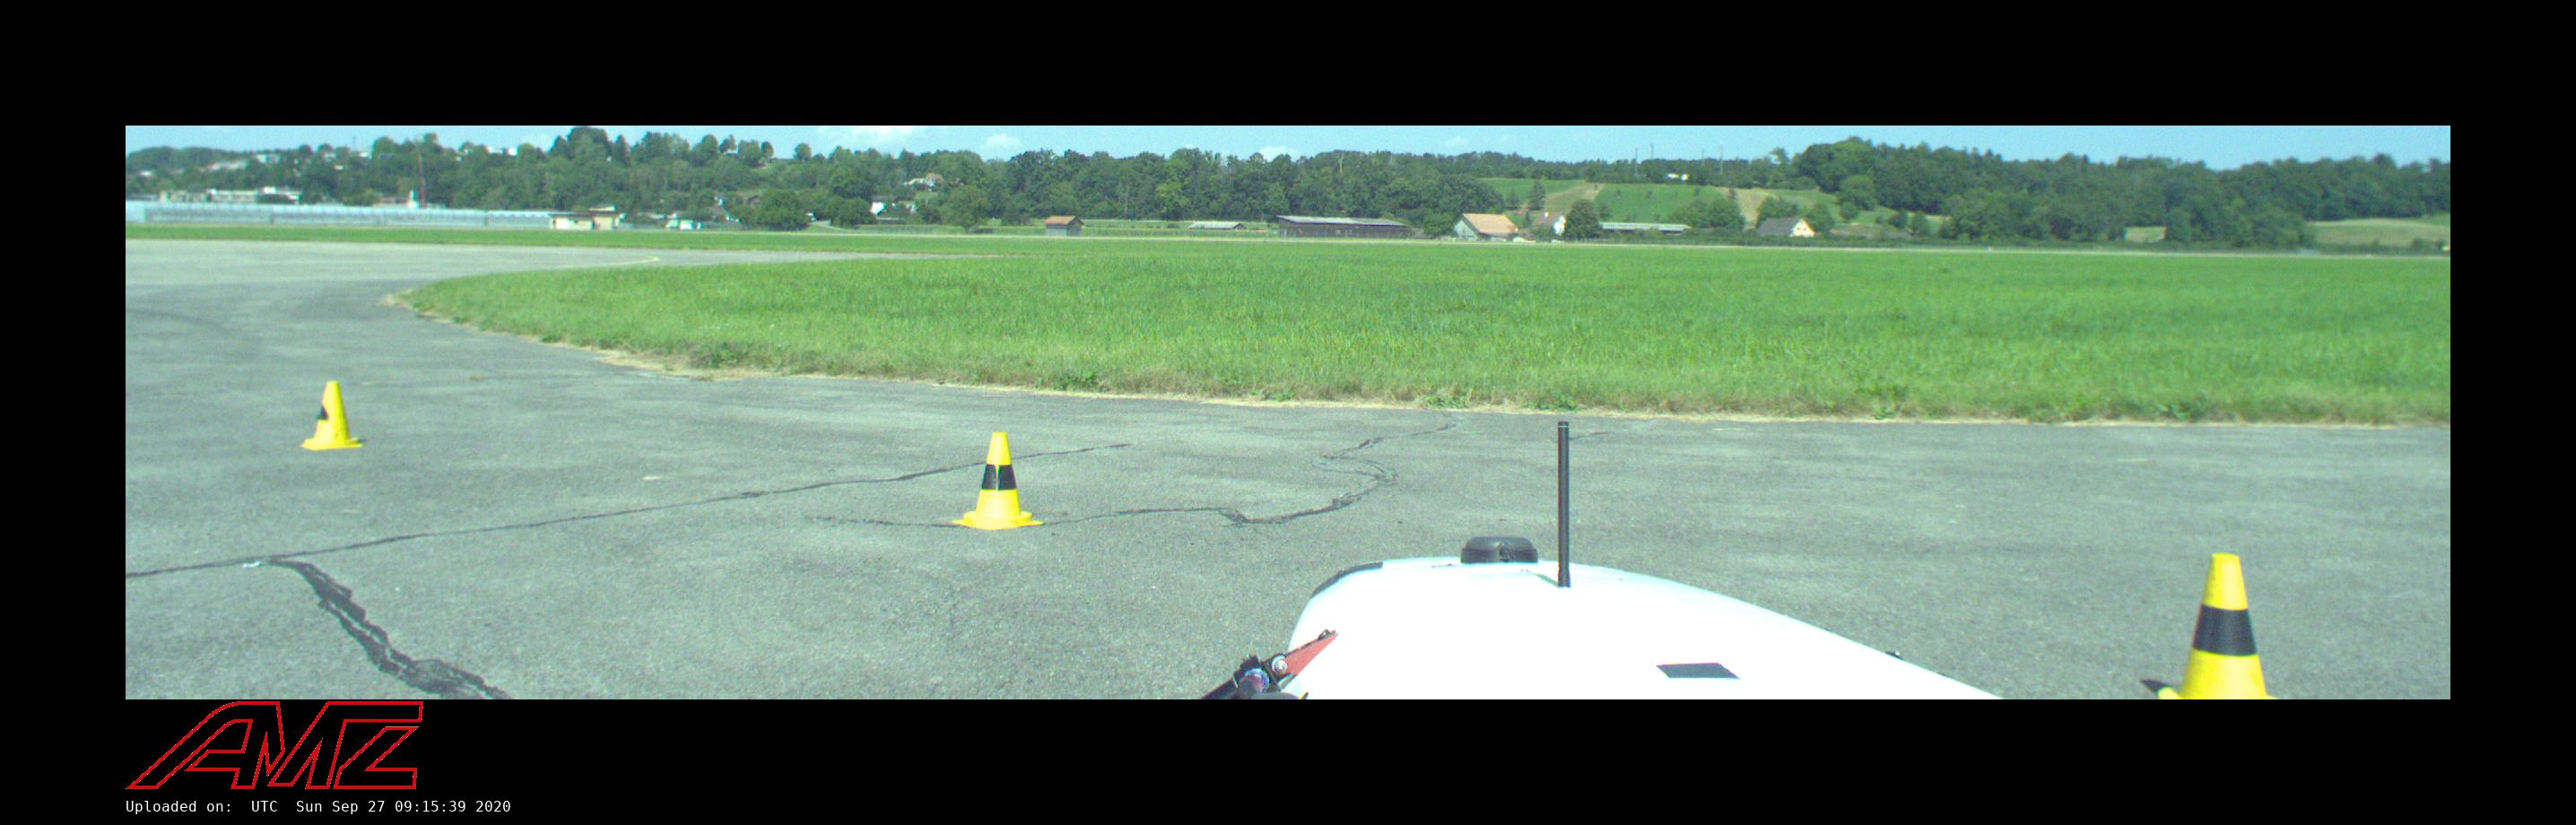yellow_cone: (2157, 554, 2297, 698), (953, 434, 1043, 529), (301, 381, 363, 450)
